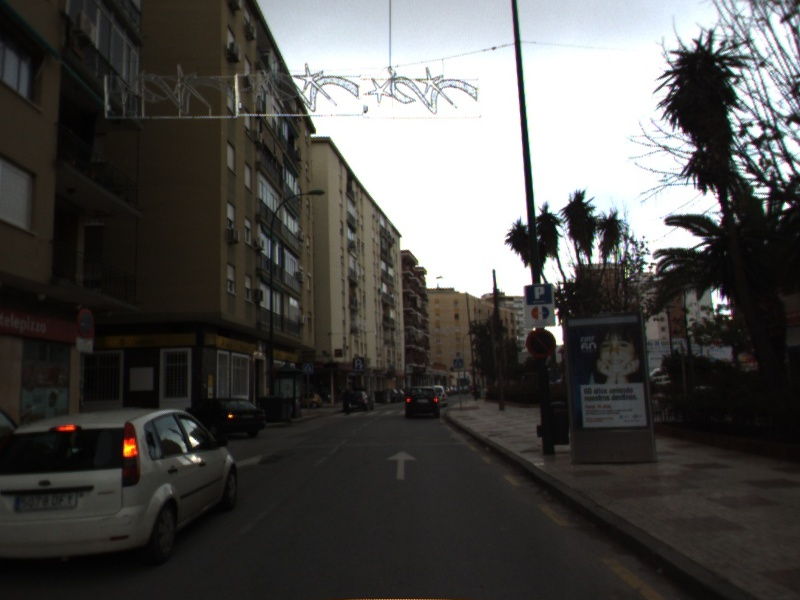STRAIGHT: (384, 449, 420, 482)
